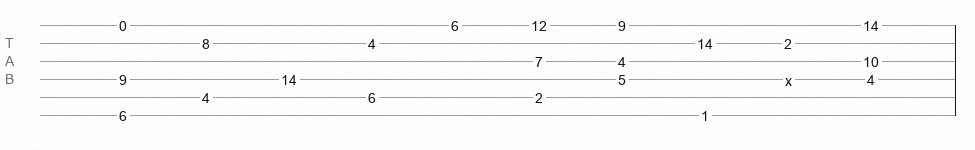0: (119, 18, 127, 28)
1: (701, 108, 709, 118)
10: (863, 54, 879, 64)
12: (531, 18, 547, 28)
14: (281, 72, 297, 82), (697, 36, 713, 46), (863, 18, 879, 28)
2: (535, 90, 543, 100), (784, 36, 792, 46)
4: (202, 90, 210, 100), (368, 36, 376, 46), (618, 54, 626, 64), (867, 72, 875, 82)
5: (618, 72, 626, 82)
6: (119, 108, 127, 118), (368, 90, 376, 100), (451, 18, 459, 28)
7: (535, 54, 543, 64)
8: (202, 36, 210, 46)
9: (119, 72, 127, 82), (618, 18, 626, 28)
x: (785, 73, 792, 81)
